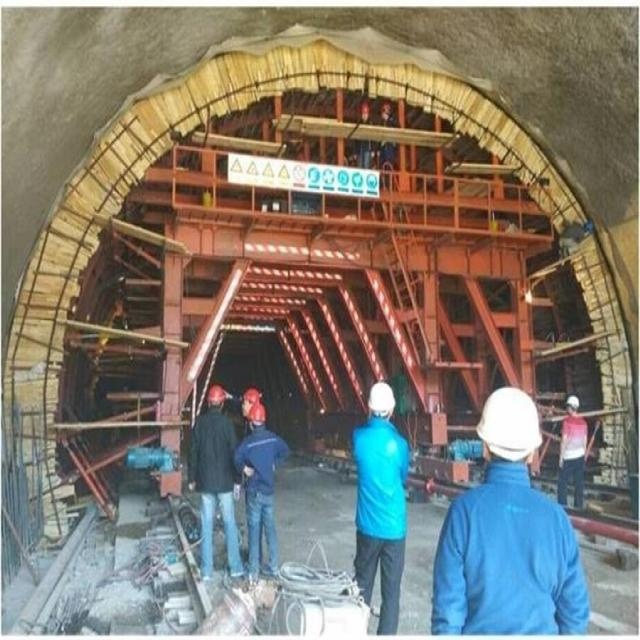Con_Casco: (476, 386, 540, 467), (369, 381, 395, 423)
Sin_Chaleco: (459, 483, 564, 638), (356, 427, 406, 534), (197, 413, 232, 487)
